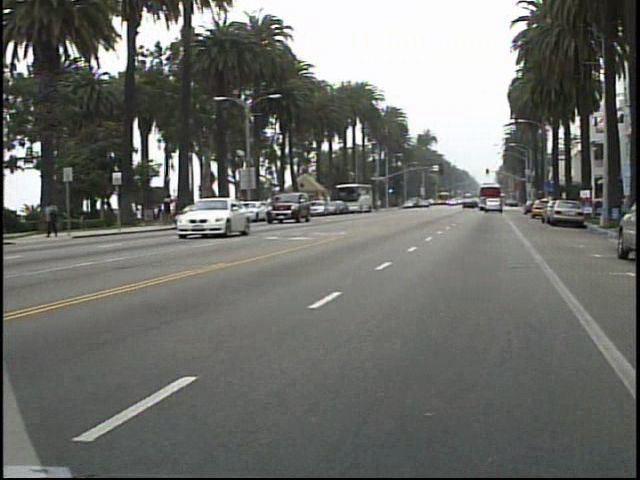person: (49, 195, 71, 239), (166, 191, 186, 226)
